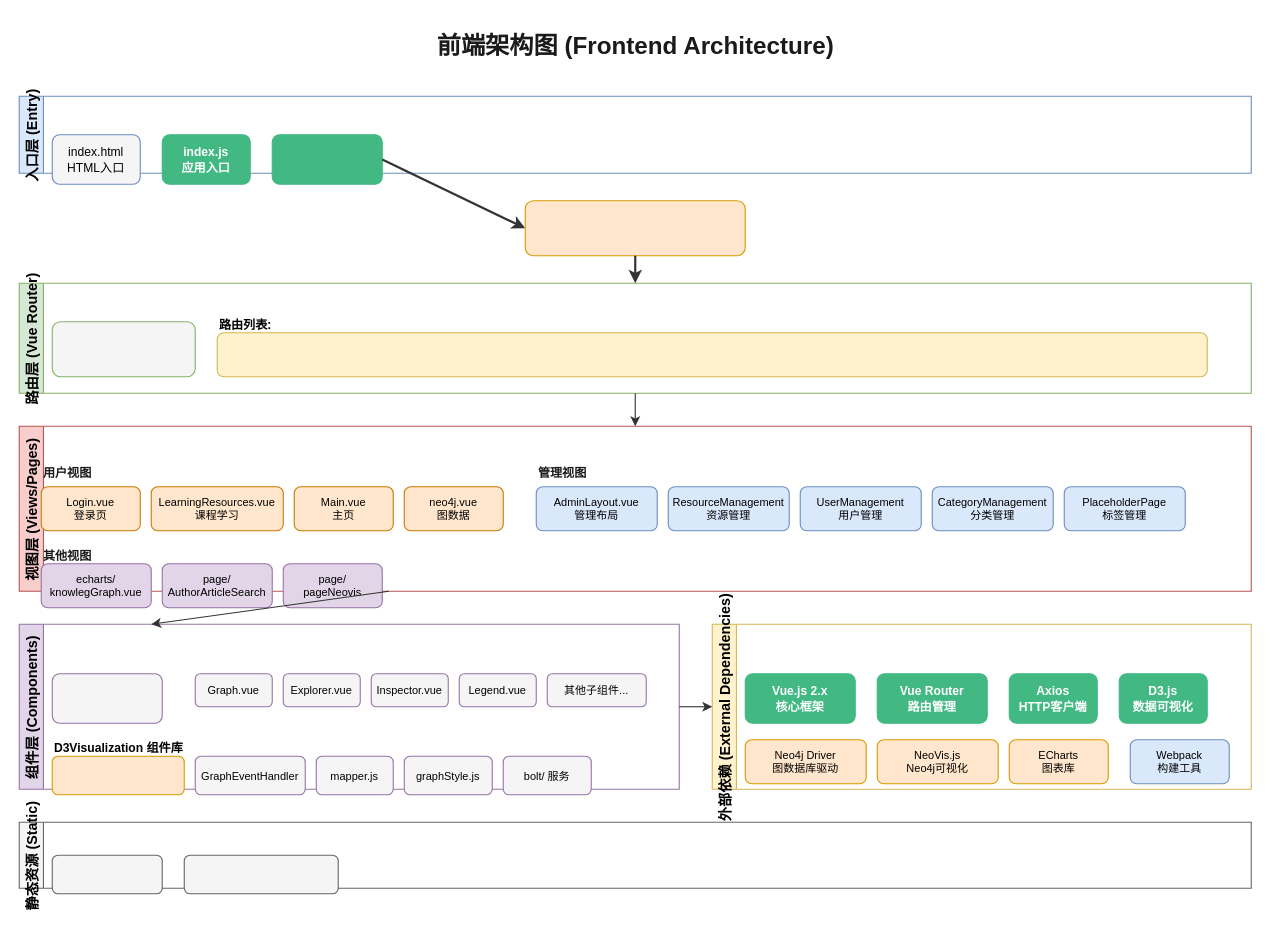
This 1271x928 diagram has some shape labels left out. The centre of each missing label's shape, as x and y in pixels:
/, /login, /learning, /main, /admin/*, /neo4j, /main: point (711, 354)
app.js 路由/状态配置: point (326, 159)
App.vue 根组件: point (634, 228)
router/index.js 路由配置: point (123, 349)
Search.vue 搜索组件: point (106, 698)
static/css/ 公共样式: point (106, 874)
static/js/external/ D3.js库文件: point (260, 874)
Visualization.vue 主图谱组件: point (117, 775)
